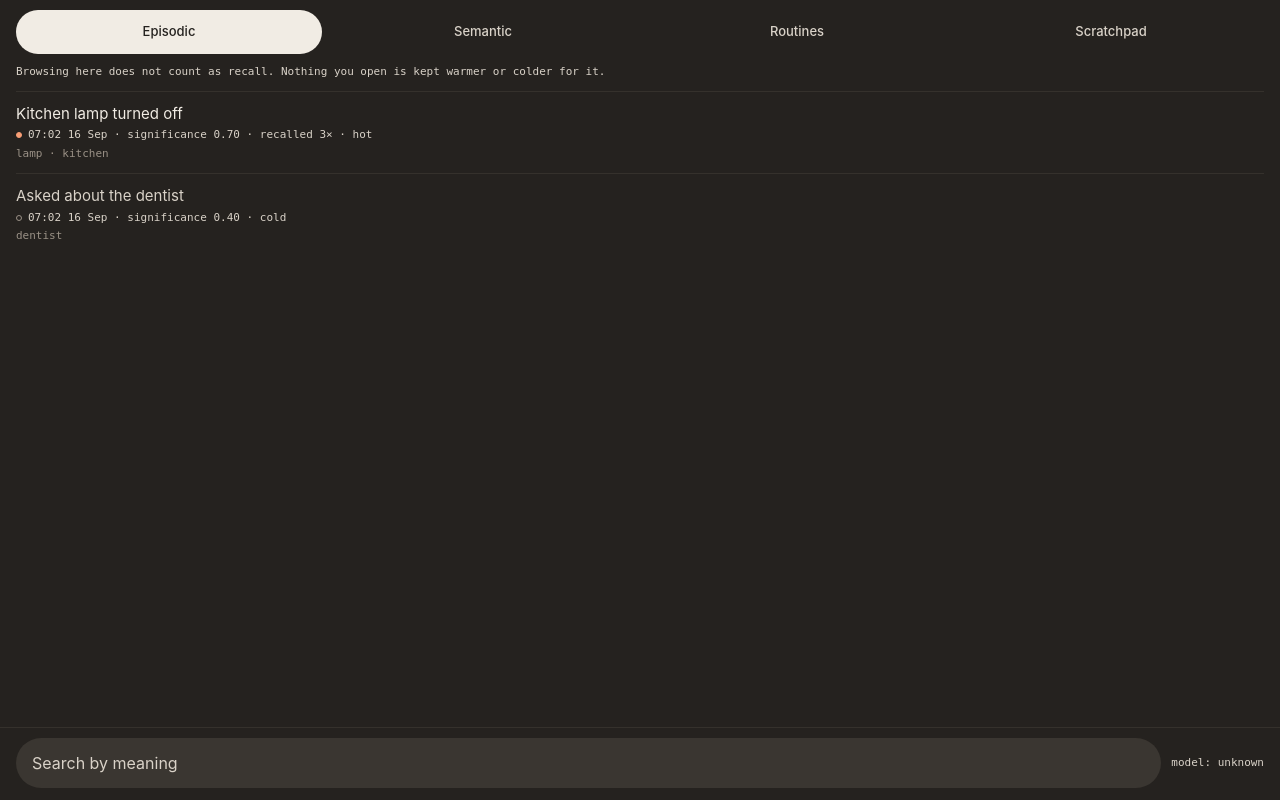
Scenario: MemoryBench over useMemory › does not say a search found nothing while that search is still in flight
Expected: the number of list items is 2, [16,90,1264,173]; [16,173,1264,256]
Type "zzz" into the search field named "Search memory".
click(589, 763); type("zzz")  # box [16,738,1161,788]
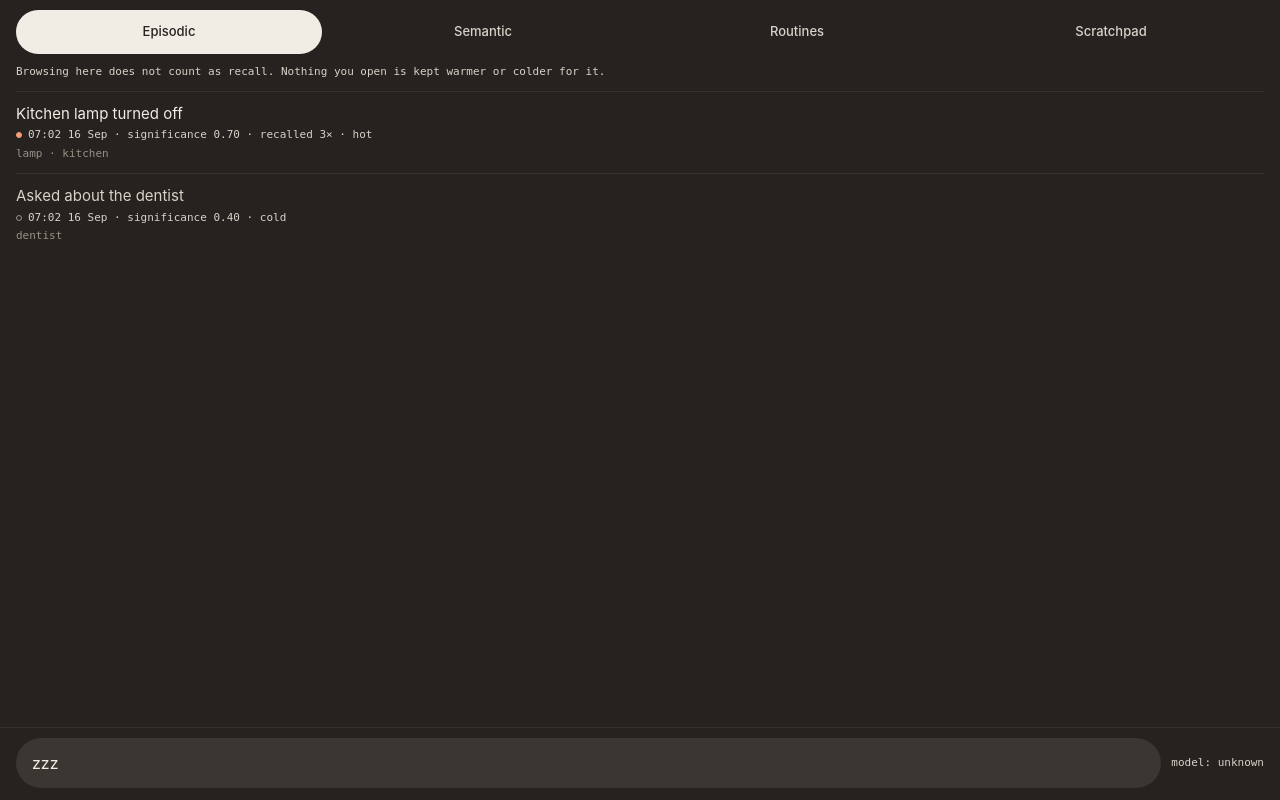
Submit the form named "Search memory", box [0,727,1279,799]
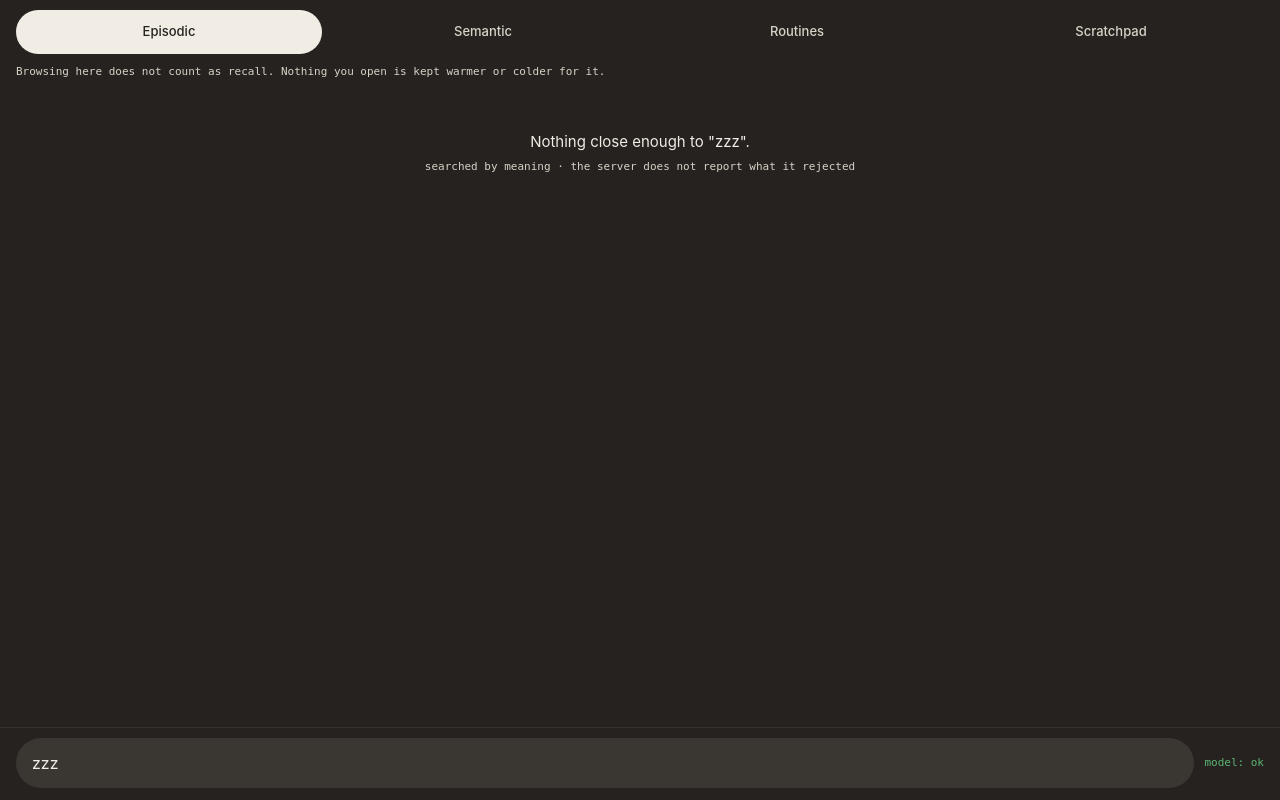
Expected: the text "Nothing close enough to \"zzz\"." is shown, [530,130,750,153]
Replace the text in the search field named "Search memory" with "dentist" at (605, 763), box [16,738,1194,788]
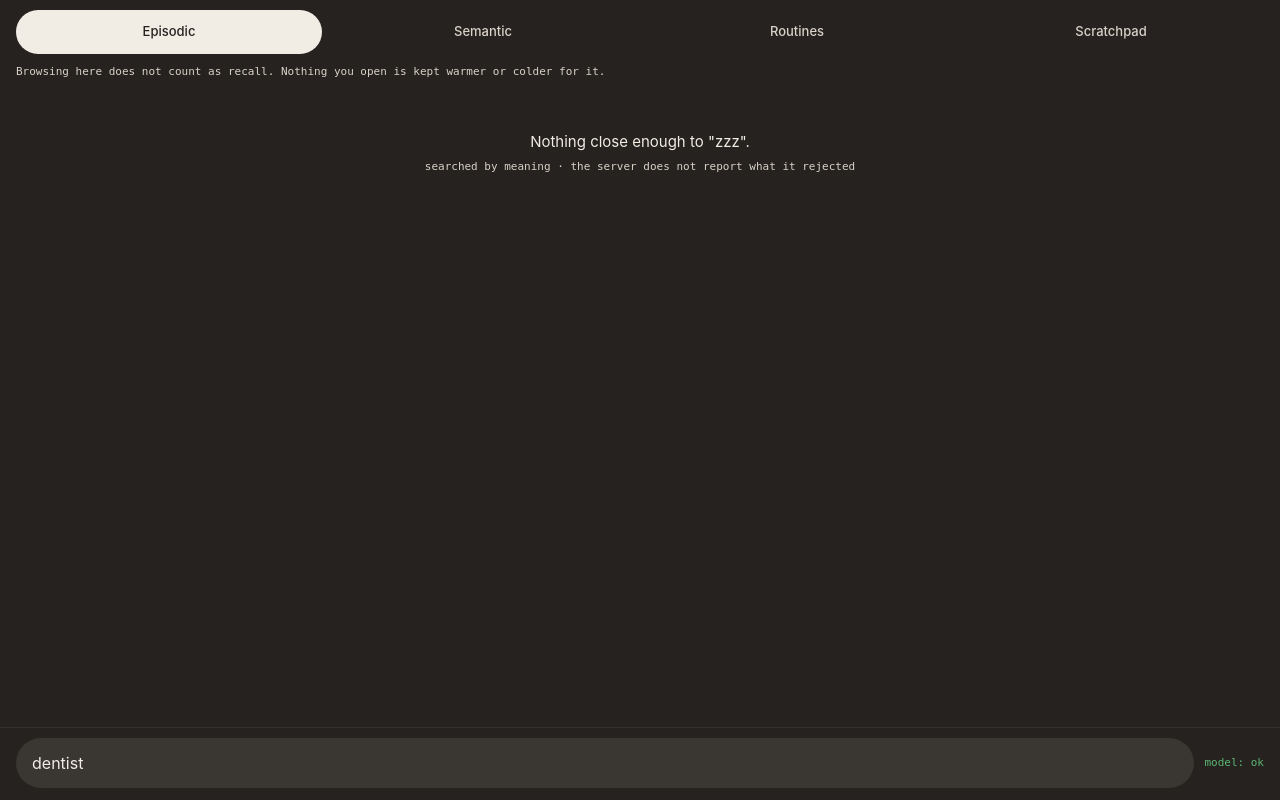
Submit the form named "Search memory", box [0,727,1279,799]
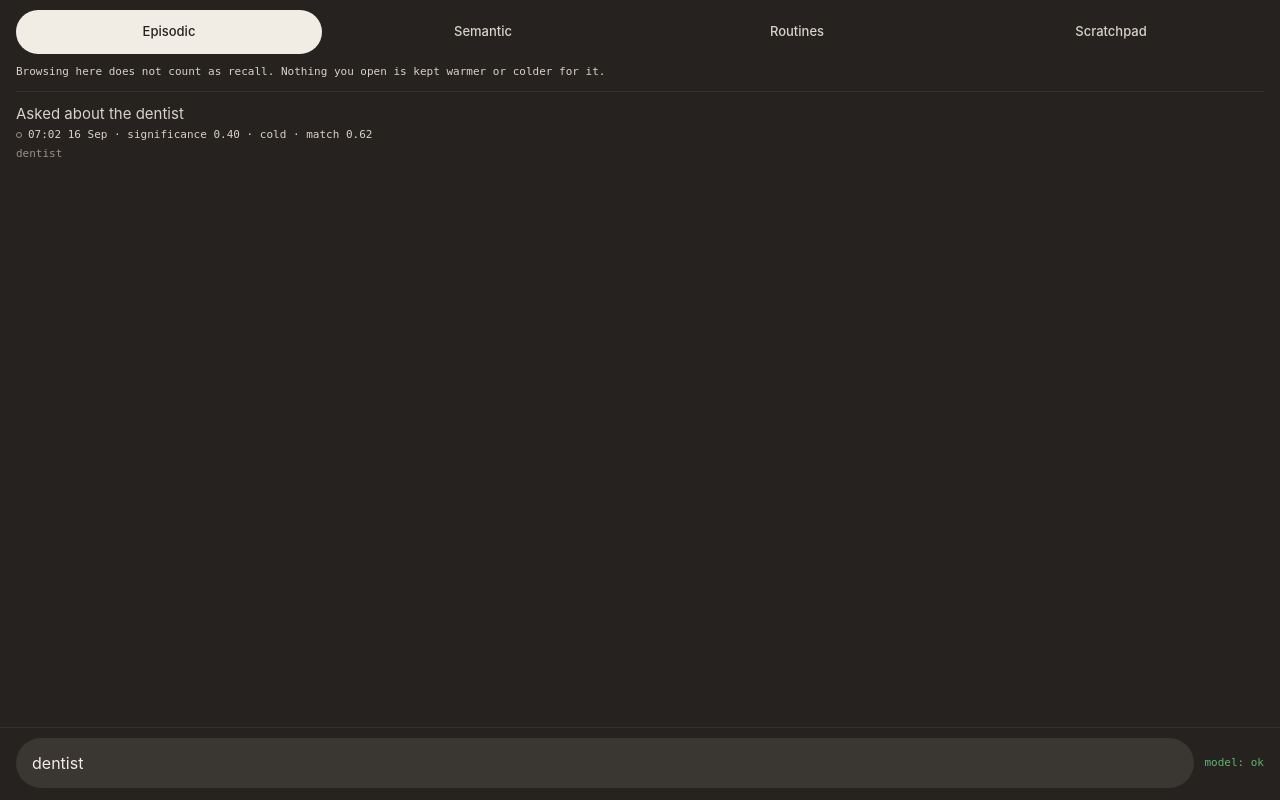
Expected: the number of list items is 1, [16,90,1264,173]
